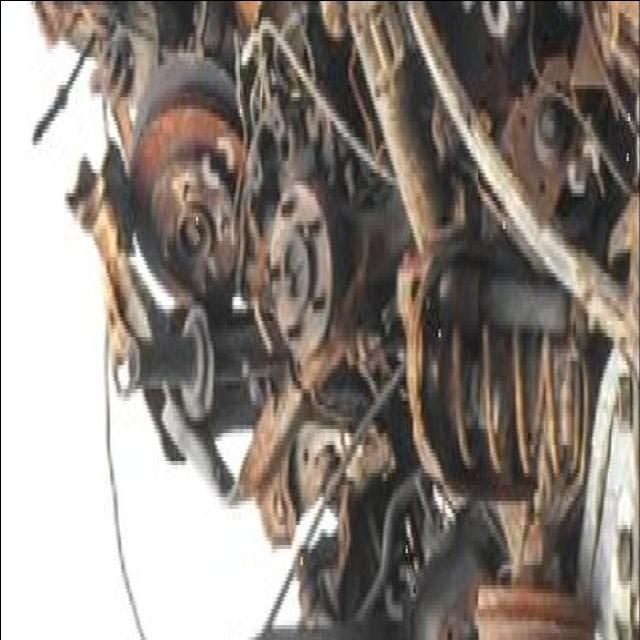shock absorber: (397, 318, 591, 490)
